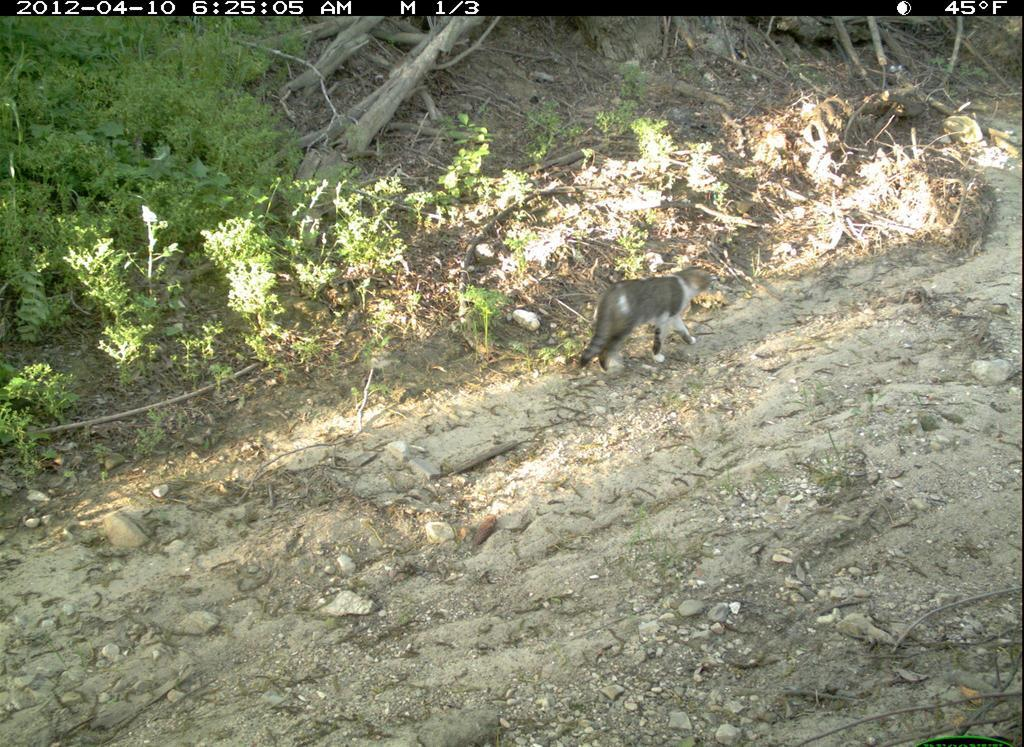cat: (561, 257, 734, 400)
